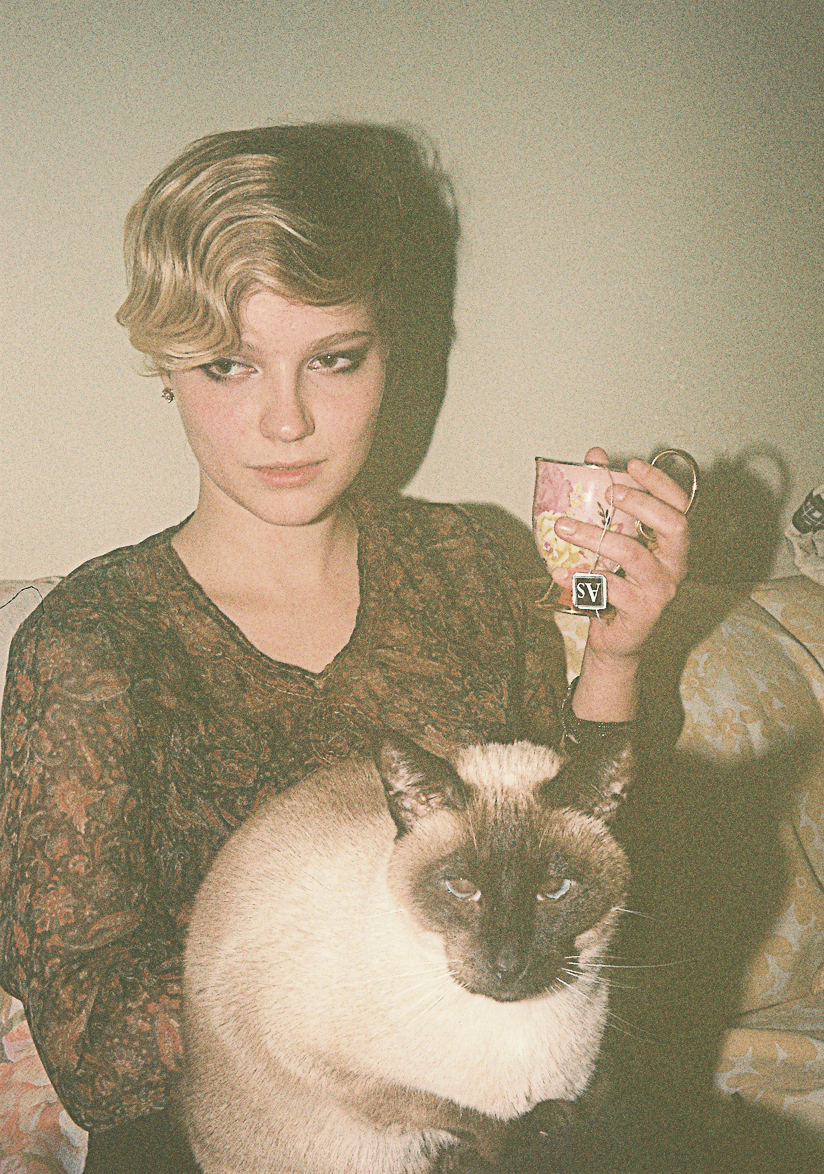cat: (170, 740, 703, 1173)
